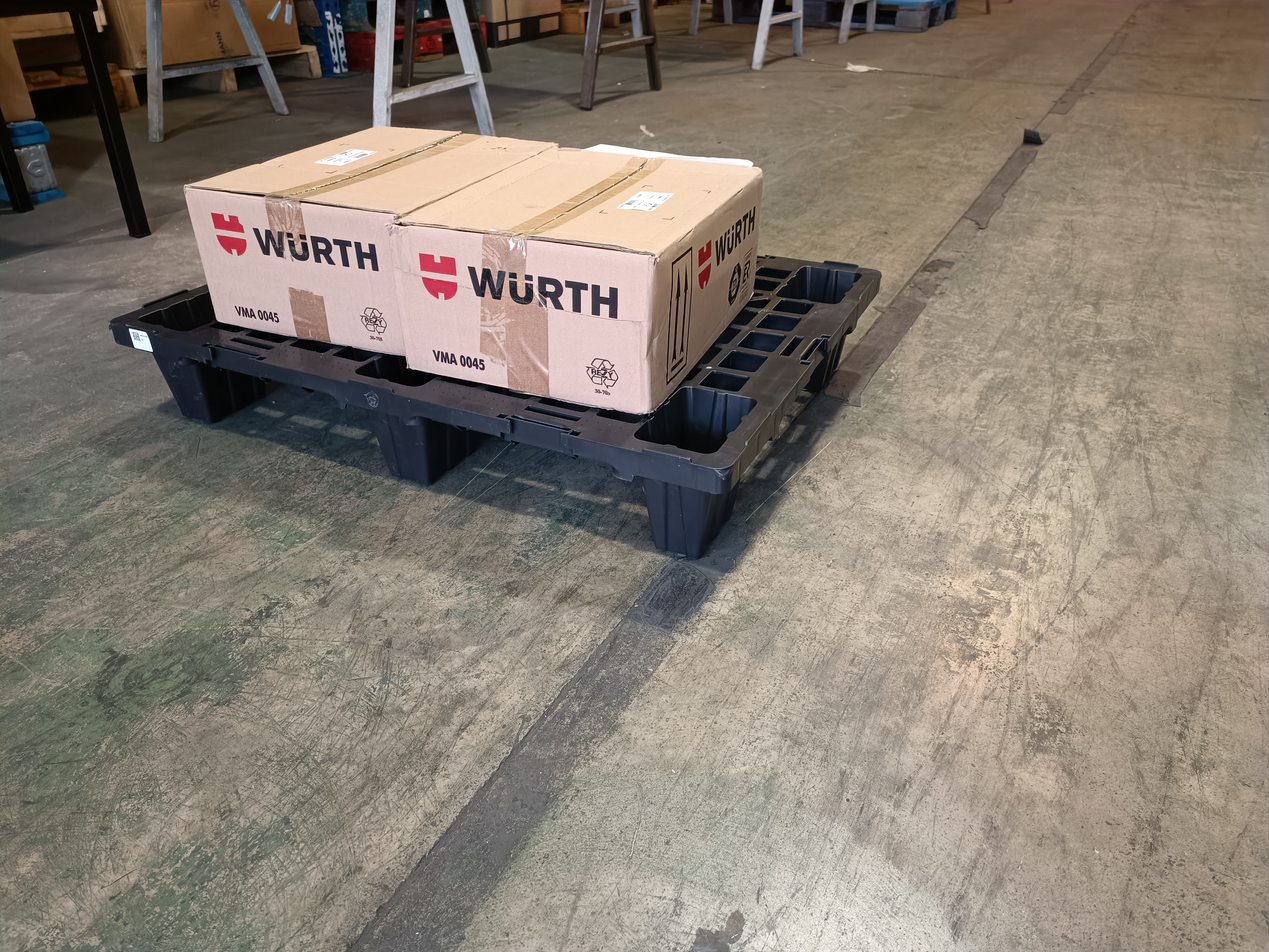block: (155, 353, 277, 426), (368, 411, 485, 486), (642, 482, 740, 558)
front: (102, 316, 742, 580)
hole pallet: (438, 433, 652, 539), (211, 368, 385, 473)
